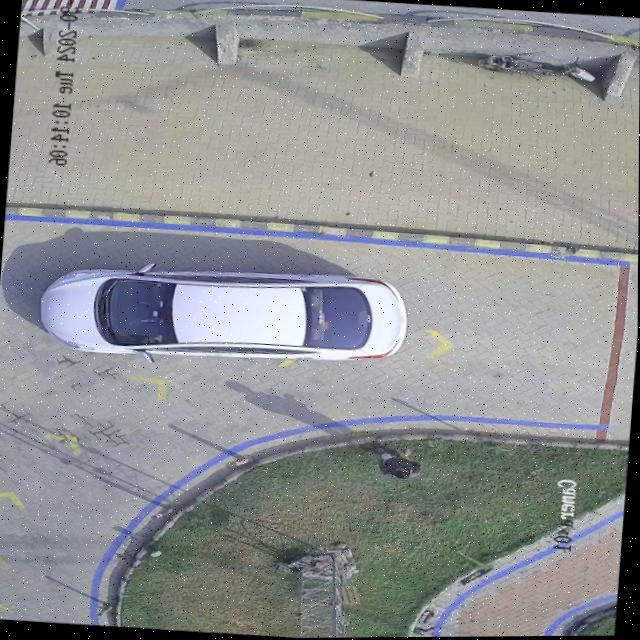car: (40, 264, 408, 361)
